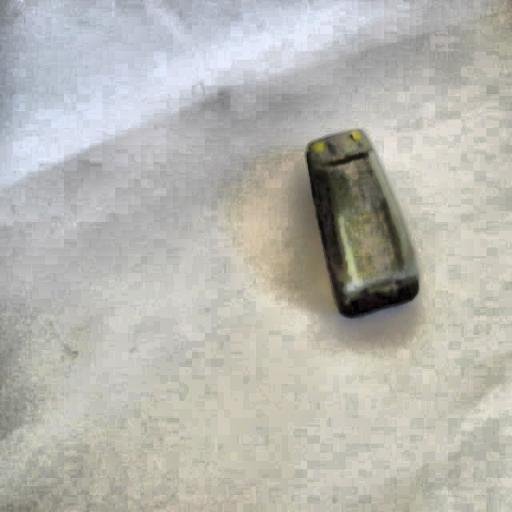normal_car: (294, 115, 426, 326)
